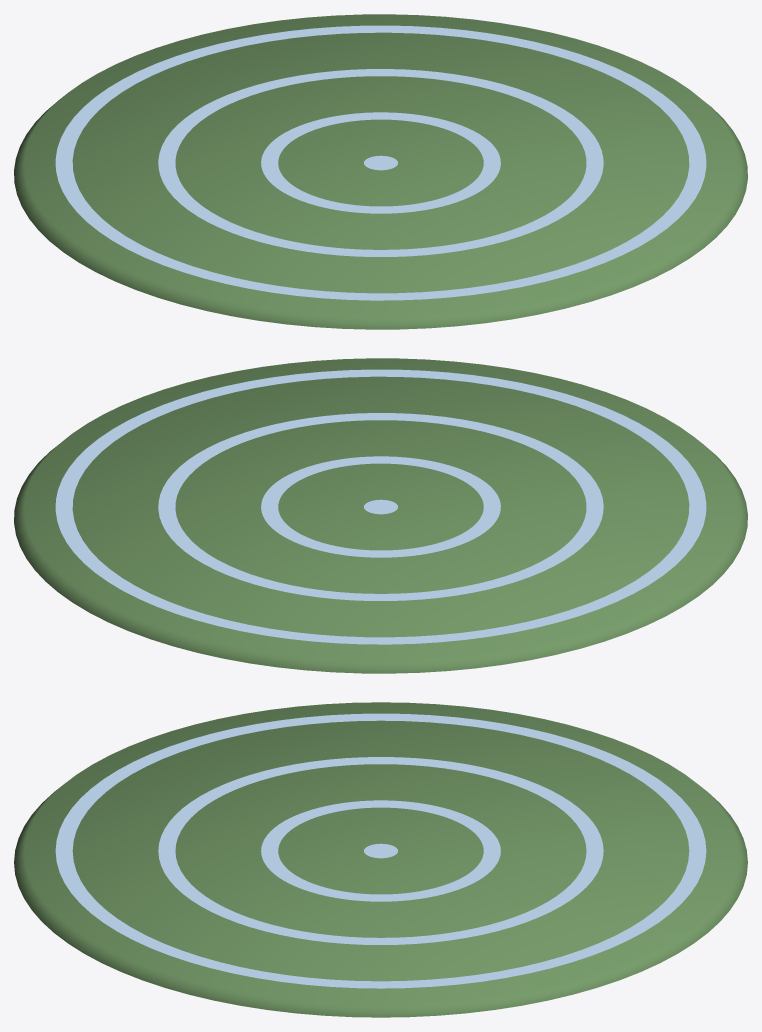
Rendered from plataformaCircular.fbx.
3 views of the same model, one above another, from view 1: azimuth 30°, elevation 25°; view 2: azimuth 150°, elevation 25°; view 3: azimuth 270°, elevation 25° (orthographic).
Visible parts, largest first — view 1: plataformaCircular; view 2: plataformaCircular; view 3: plataformaCircular.
Part boxes in pixels (x1,y1,x2,y2): plataformaCircular: (14, 14, 747, 329); plataformaCircular: (14, 358, 747, 673); plataformaCircular: (14, 702, 747, 1017).
Size of the model in its own units: 0.4071 by 0.00705 by 0.4071.
